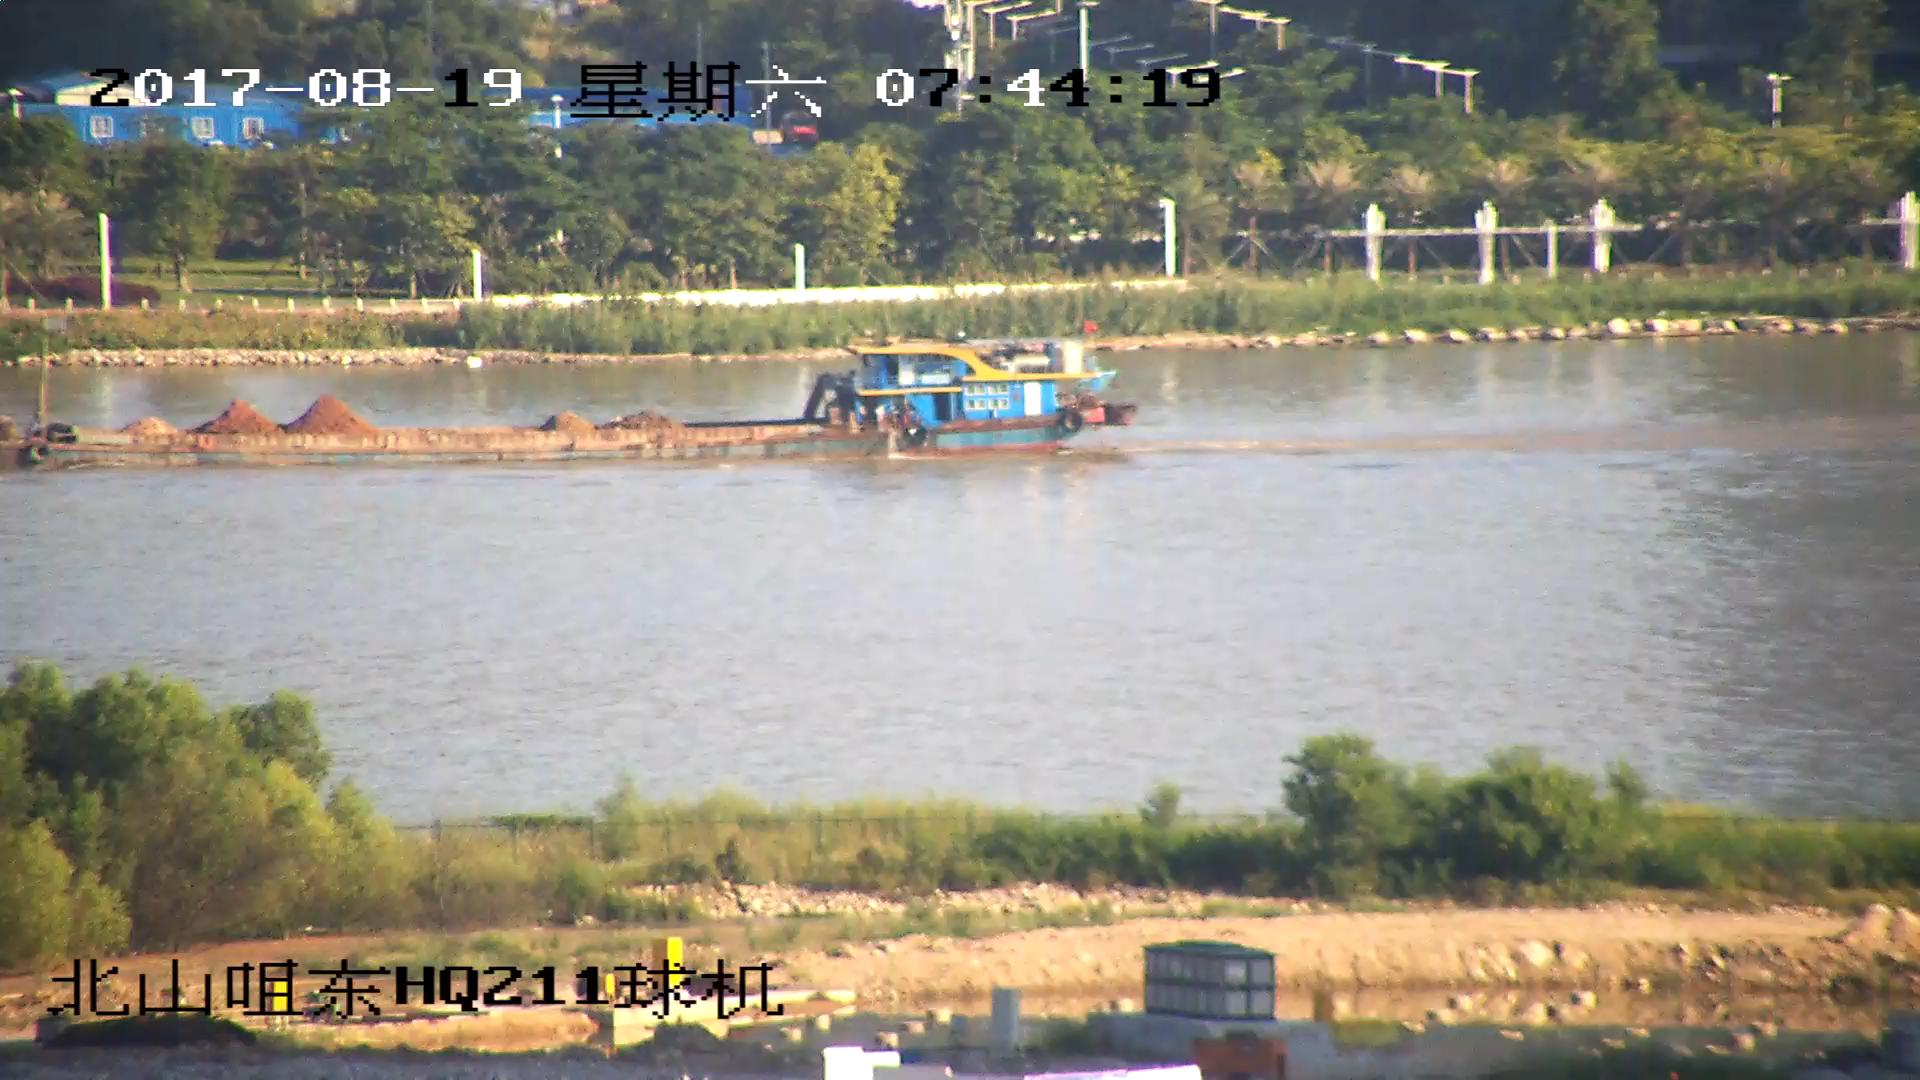ore carrier: (1, 317, 1137, 465)
